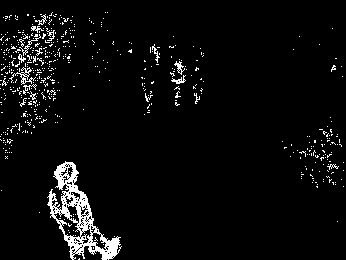person: (47, 161, 124, 260), (169, 58, 187, 108)
